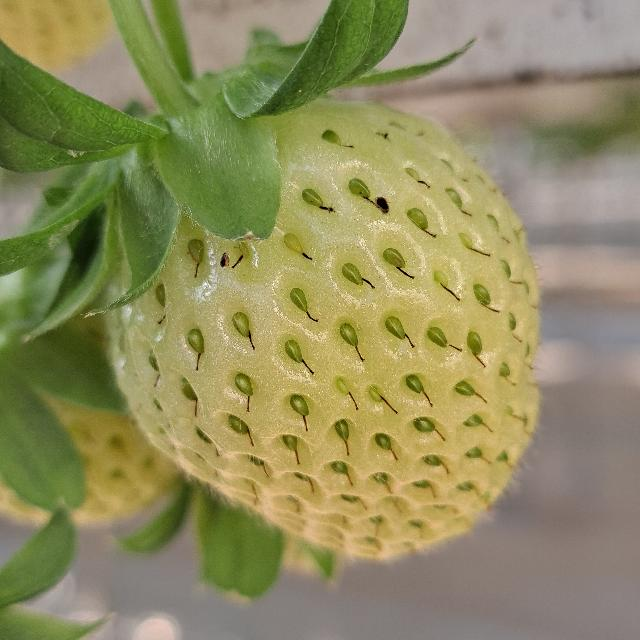Health_25: (100, 98, 540, 558)
